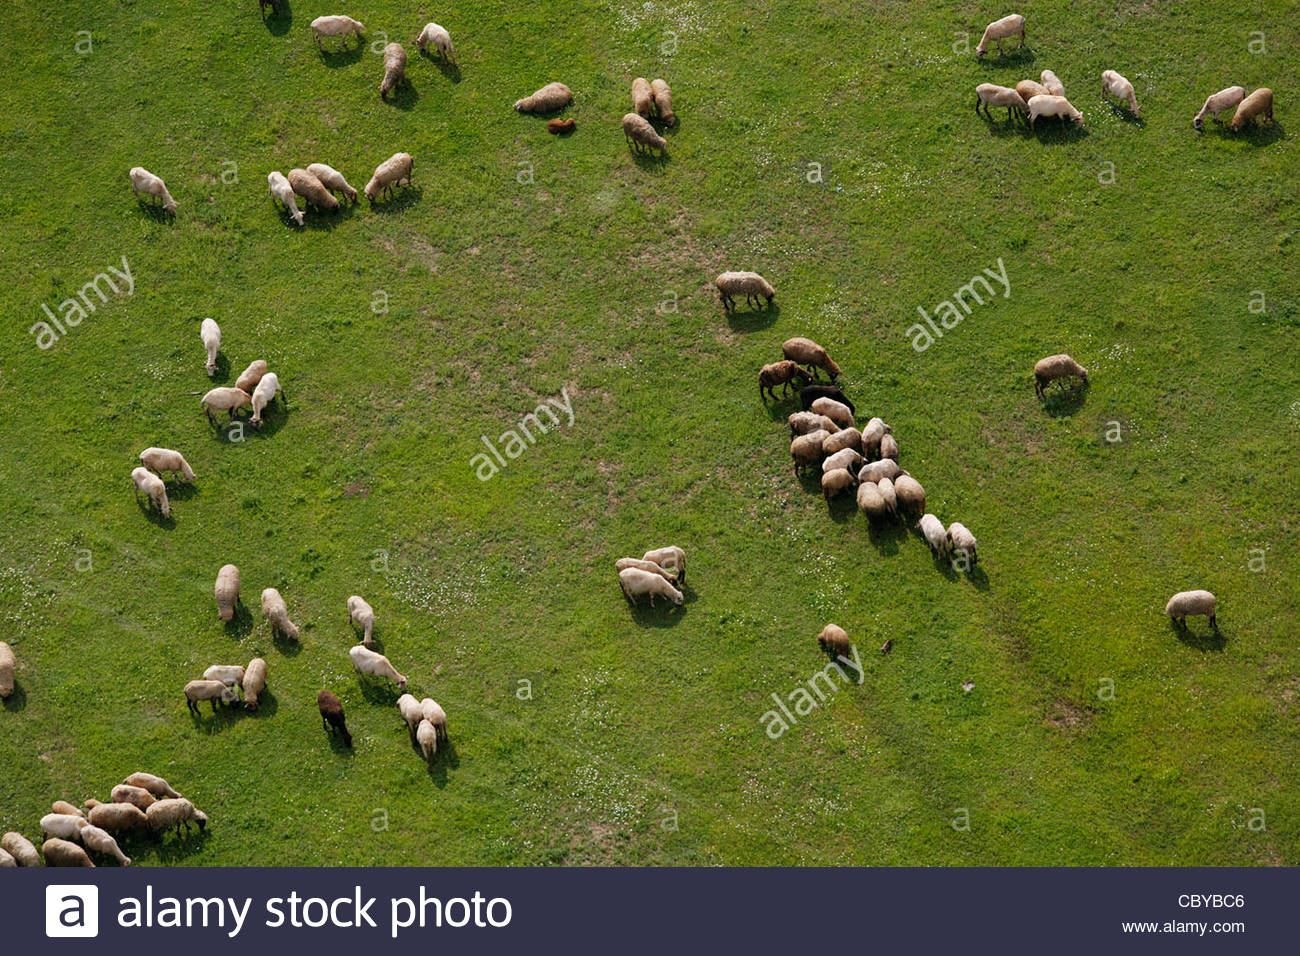sheep: (345, 644, 408, 701), (143, 798, 212, 843), (620, 562, 686, 608), (1031, 354, 1089, 404), (289, 168, 341, 222), (364, 150, 417, 205), (716, 265, 773, 314), (129, 166, 179, 221), (1163, 589, 1218, 636), (976, 10, 1030, 59), (783, 334, 838, 382), (258, 585, 300, 646), (307, 10, 365, 54), (1188, 87, 1247, 130), (83, 800, 149, 837), (306, 162, 360, 207), (78, 826, 132, 870), (128, 466, 171, 523), (1027, 93, 1084, 135), (756, 356, 813, 398), (976, 80, 1030, 123), (265, 170, 305, 228), (111, 778, 161, 824), (621, 111, 667, 160), (199, 385, 255, 423), (376, 36, 409, 101), (142, 446, 196, 485), (1100, 70, 1142, 118), (639, 546, 692, 583), (249, 370, 284, 428), (1230, 86, 1274, 131), (412, 19, 454, 66), (122, 770, 183, 803), (212, 562, 242, 626), (345, 593, 378, 650), (184, 680, 235, 716), (858, 456, 912, 490), (792, 428, 829, 476), (40, 811, 91, 844), (40, 837, 89, 871), (397, 687, 427, 741), (858, 413, 894, 457), (241, 659, 273, 711), (854, 480, 888, 526), (813, 393, 854, 431), (1, 830, 37, 872), (650, 74, 678, 128), (200, 315, 224, 378), (204, 664, 250, 697), (412, 716, 442, 764), (914, 512, 947, 555), (947, 520, 978, 564), (819, 470, 859, 504), (631, 72, 656, 124)
